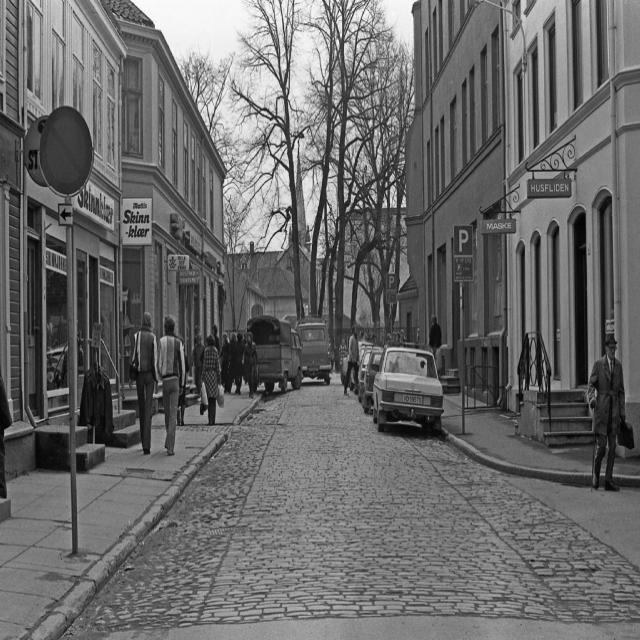car: (367, 339, 454, 436)
